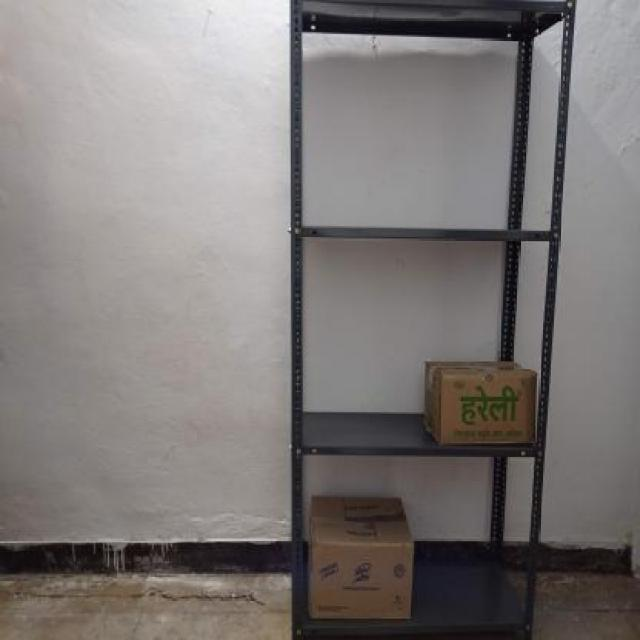box: (307, 543, 413, 617), (442, 373, 540, 449)
